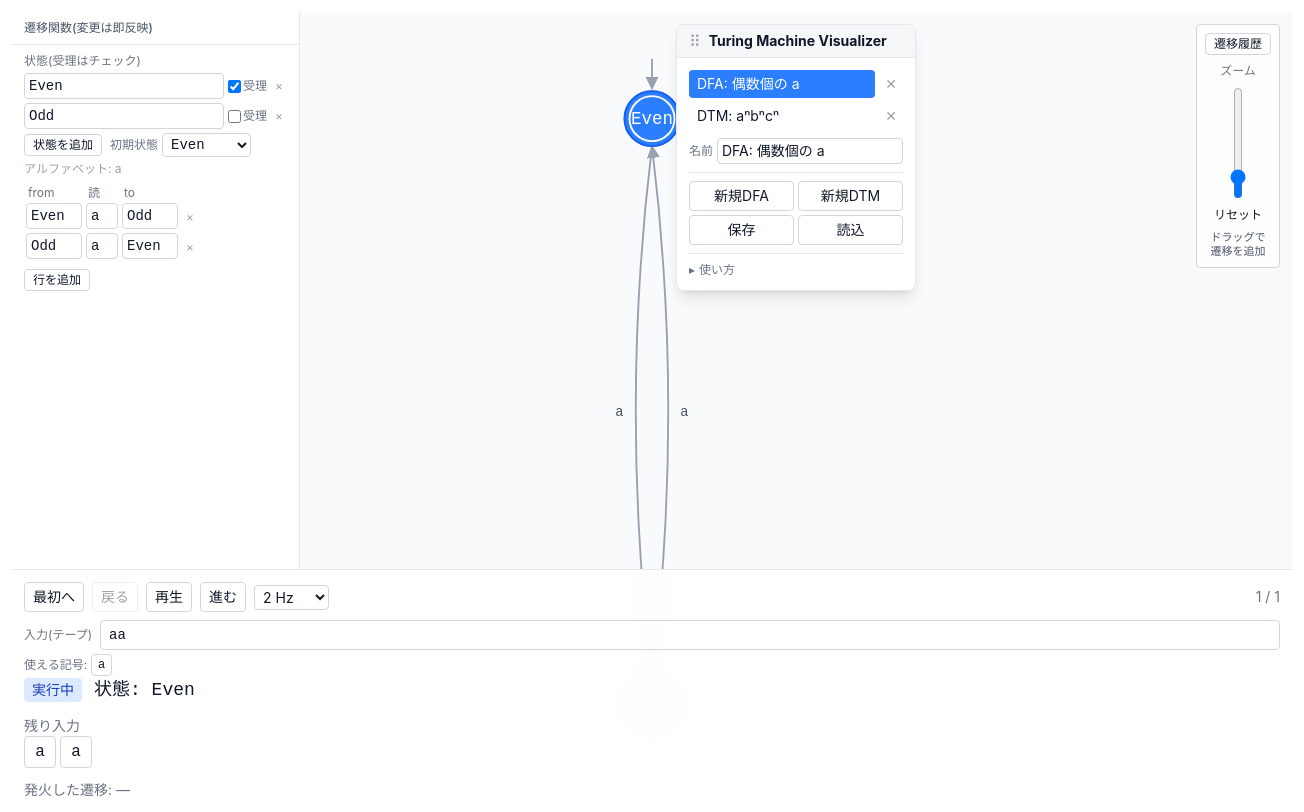
Scenario: App(再生 UI) › 使える記号を表示し、クリックで入力へ追記する
This screenshot has width=1304, height=812.
Check: the field labelled "入力(テープ)" holds "aa", box [100,620,1280,650]
Click the button named "記号 a を追加": (102, 665) [91,654,112,676]
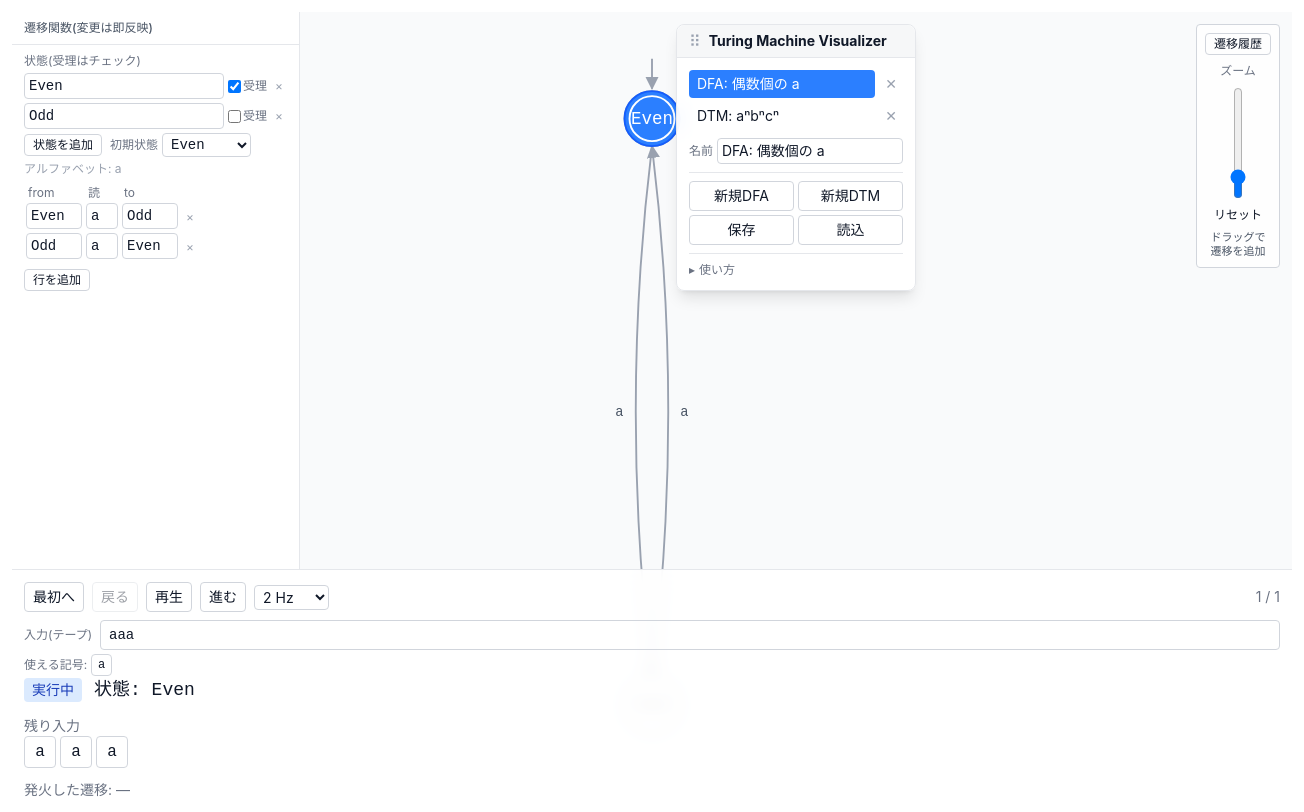
Check: the field labelled "入力(テープ)" holds "aaa", box [100,620,1280,650]
